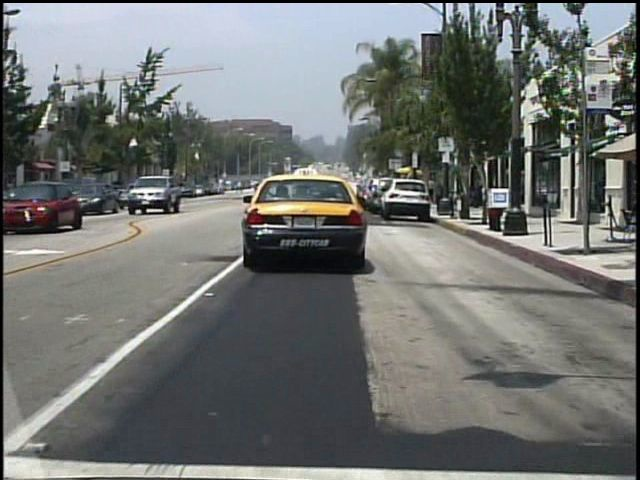person: (428, 177, 435, 200)
